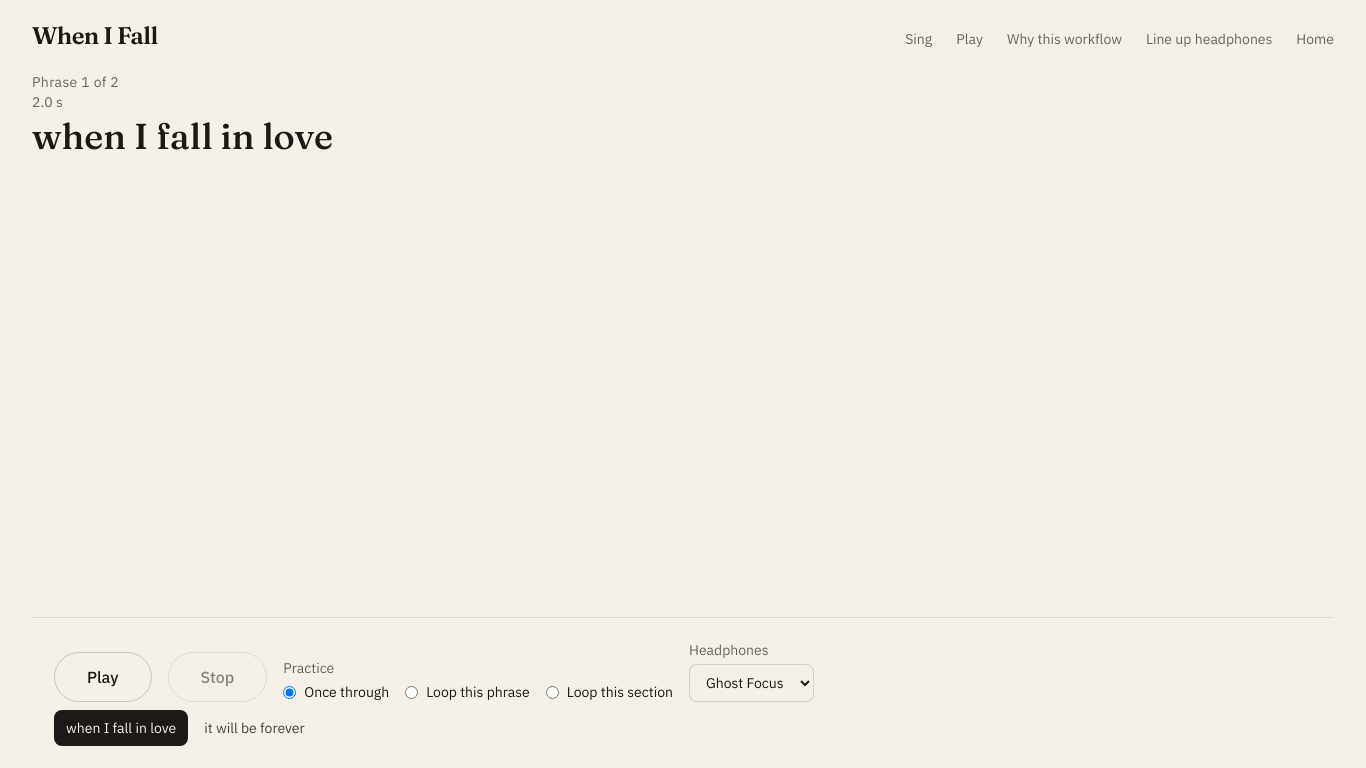
Test: PlayPage › plays the whole ghost once from the top
This screenshot has width=1366, height=768.
Step 1. Click the button "Play" → (103, 677), box [54,652,152,702]
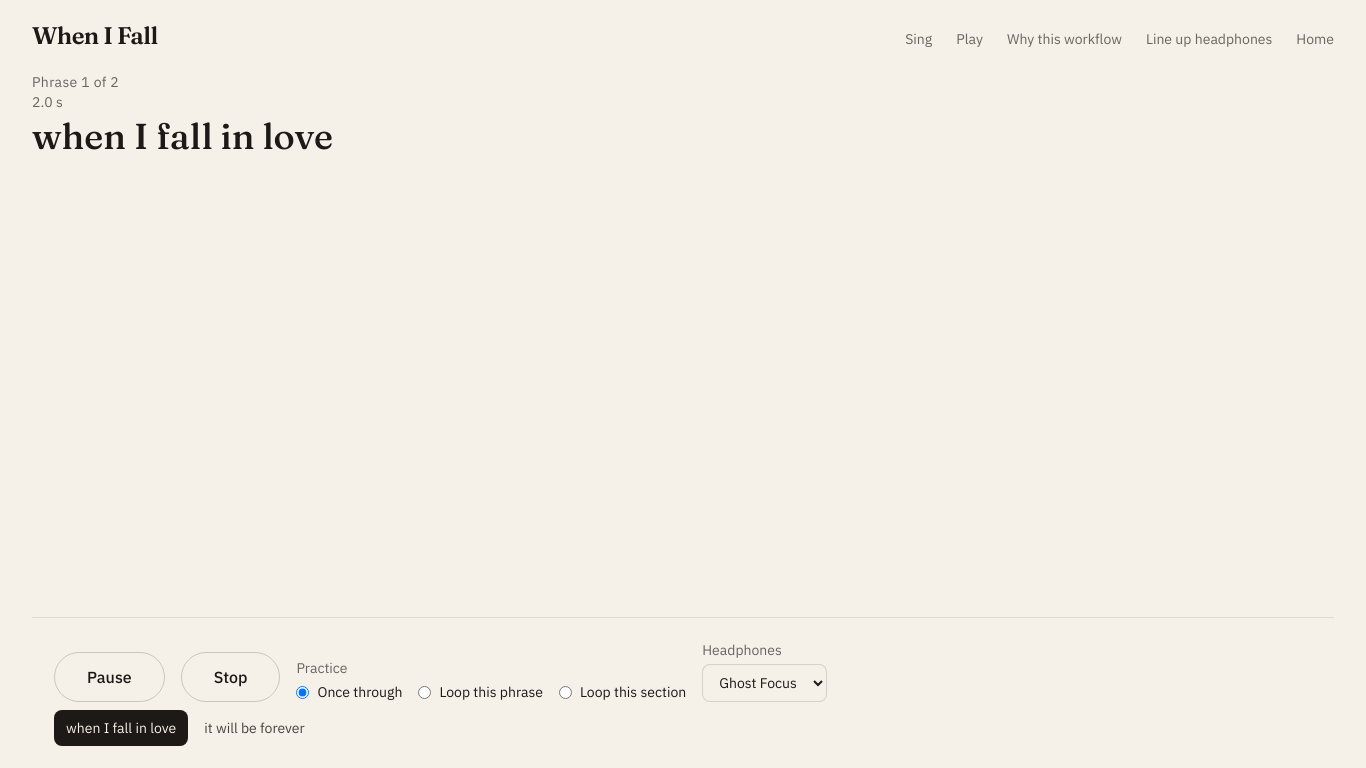
Expected: the button "Pause" is shown, [54,652,165,702]
